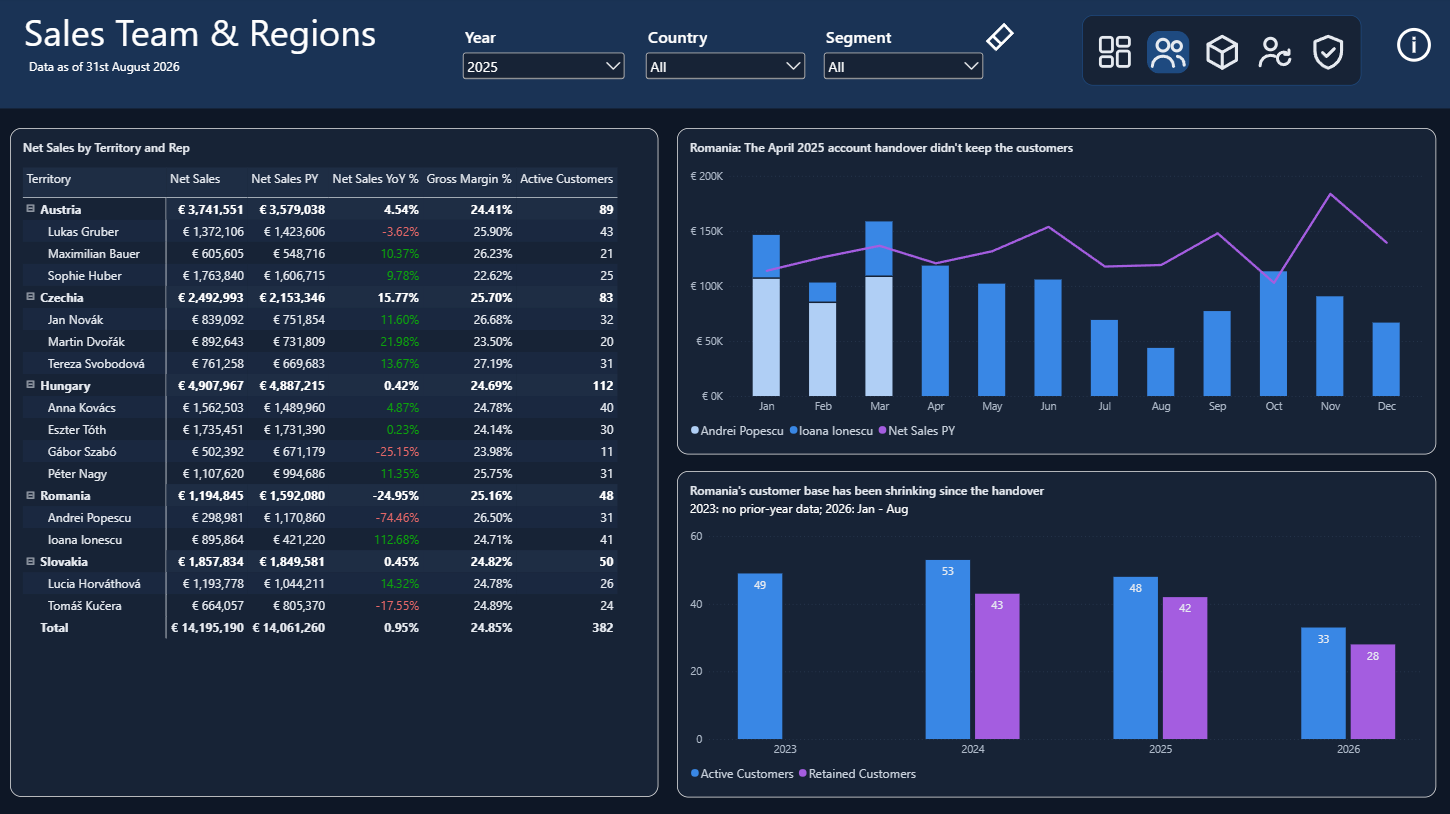

What the dashboard file says about the page in this screenshot:
{"tool":"powerbi","page":{"name":"Page 2 - Sales Team & Regions","canvas":[1920,1080],"ordinal":1},"visuals":[{"type":"pivotTable","title":"Net Sales by Territory and Rep","fields":{"Rows":["Sales Rep.territory","Sales Rep.rep_name"],"Values":["_Measures.Net Sales","_Measures.Net Sales PY","_Measures.Net Sales YoY %","_Measures.Gross Margin %","_Measures.Active Customers"]},"box":[19.2,173,854.3,880.5],"z":0},{"type":"lineStackedColumnComboChart","title":"Romania: The April 2025 account handover didn''t keep the customers","fields":{"Category":["Date.month_short"],"Series":["Sales Rep.rep_name"],"Y":["_Measures.Net Sales"],"Y2":["_Measures.Net Sales PY"]},"box":[898,173,1000,430],"z":1000},{"type":"clusteredColumnChart","title":"Romania''s customer base has been shrinking since the handover","fields":{"Category":["Date.year"],"Y":["_Measures.Active Customers","_Measures.Retained Customers"]},"box":[898,623.7,1000,430],"z":2000},{"type":"shape","box":[0,0,1920,146.6],"z":3000},{"type":"textbox","box":[37.5,12.5,488,118],"z":4000},{"type":"textbox","box":[45,80.4,232.9,48.8],"z":5000},{"type":"shape","box":[1431.3,23.7,368.3,93],"z":6000},{"type":"actionButton","box":[1447.9,44.3,55.4,55.4],"z":7000},{"type":"actionButton","box":[1517.9,44.3,56,56],"z":8000},{"type":"actionButton","box":[1587.9,45.2,56,56],"z":9000},{"type":"actionButton","box":[1657.9,45.2,55.4,55.4],"z":10000},{"type":"actionButton","box":[1727.9,45.2,56,56],"z":11000},{"type":"slicer","fields":{"Values":["Date.year"]},"box":[611.4,37.5,223.5,85.8],"z":12000},{"type":"slicer","fields":{"Values":["Customer.country"]},"box":[852.7,37.5,219.9,85.8],"z":13000},{"type":"slicer","fields":{"Values":["Customer.segment"]},"box":[1086.9,37.5,219.9,85.8],"z":14000},{"type":"actionButton","box":[1294.3,28.6,57.2,48.3],"z":15000},{"type":"actionButton","box":[1839.6,28.6,57.2,67.9],"z":16000}]}

Visuals, with their boxes in screenshot pixels (x1, y1, x2, y2), scaled from the page's 1920x1080 canvas onto the 1450x814 screenshot:
"Net Sales by Territory and Rep" pivotTable: 14:130:660:794
"Romania: The April 2025 account handover didn''t keep the customers" lineStackedColumnComboChart: 678:130:1433:454
"Romania''s customer base has been shrinking since the handover" clusteredColumnChart: 678:470:1433:794
shape: 0:0:1449:110
textbox: 28:9:397:98
textbox: 34:61:210:97
shape: 1081:18:1359:88
actionButton: 1093:33:1135:75
actionButton: 1146:33:1189:76
actionButton: 1199:34:1241:76
actionButton: 1252:34:1294:76
actionButton: 1305:34:1347:76
slicer - Date.year: 462:28:631:93
slicer - Customer.country: 644:28:810:93
slicer - Customer.segment: 821:28:987:93
actionButton: 977:22:1021:58
actionButton: 1389:22:1432:73
